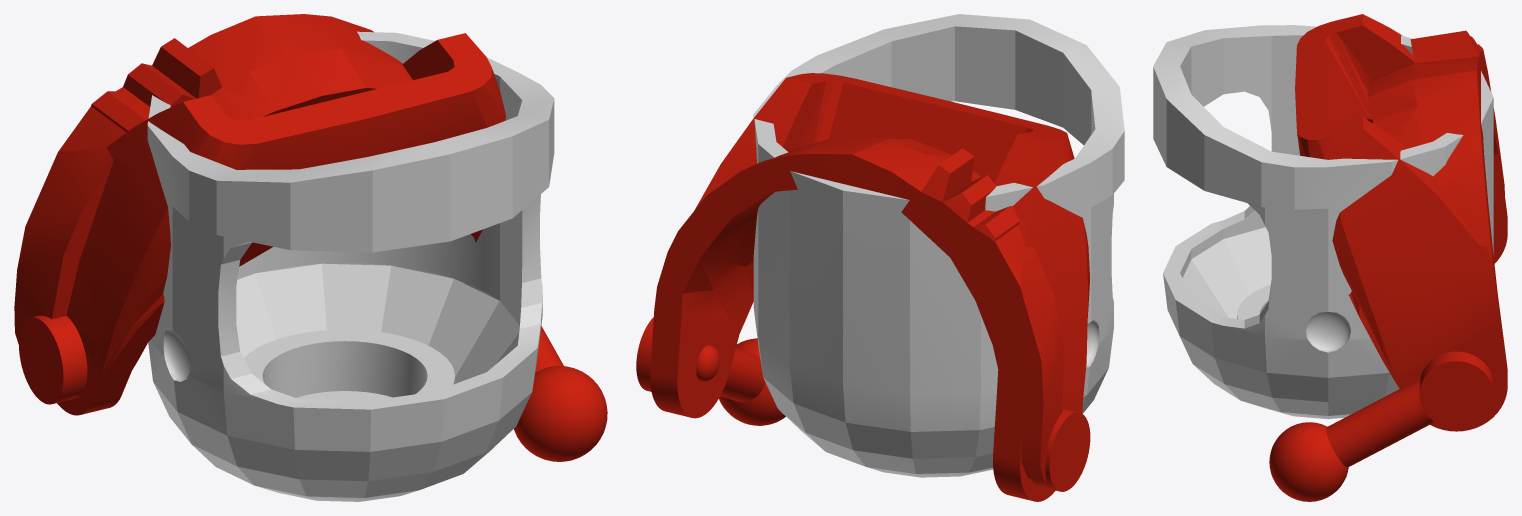
The model's file is RacingHelmet.dae.
3 renders of one model, left to right at view 1: azimuth 30°, elevation 25°; view 2: azimuth 150°, elevation 25°; view 3: azimuth 270°, elevation 25°, orthographic. The views are drawn at different scales.
Parts seen in each view (by area): view 1: 3842b_dot_dat, 6119_dot_dat; view 2: 3842b_dot_dat, 6119_dot_dat; view 3: 6119_dot_dat, 3842b_dot_dat.
Boxes of the visible parts, left/top/right/bottom form: 3842b_dot_dat: left=147, top=31, right=554, bottom=501; 6119_dot_dat: left=14, top=14, right=607, bottom=461; 3842b_dot_dat: left=753, top=14, right=1124, bottom=477; 6119_dot_dat: left=636, top=73, right=1090, bottom=501; 6119_dot_dat: left=1269, top=14, right=1507, bottom=501; 3842b_dot_dat: left=1153, top=25, right=1493, bottom=419.
Size of the model in its own units: 39.25 by 33.57 by 30.84.
